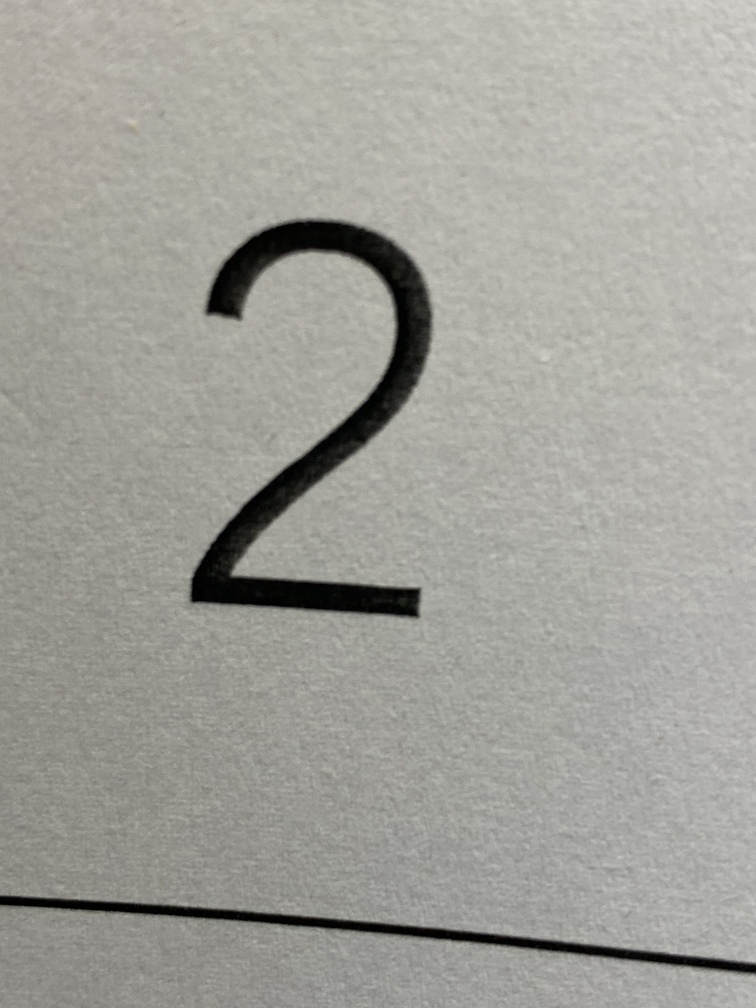two: (141, 180, 496, 672)
